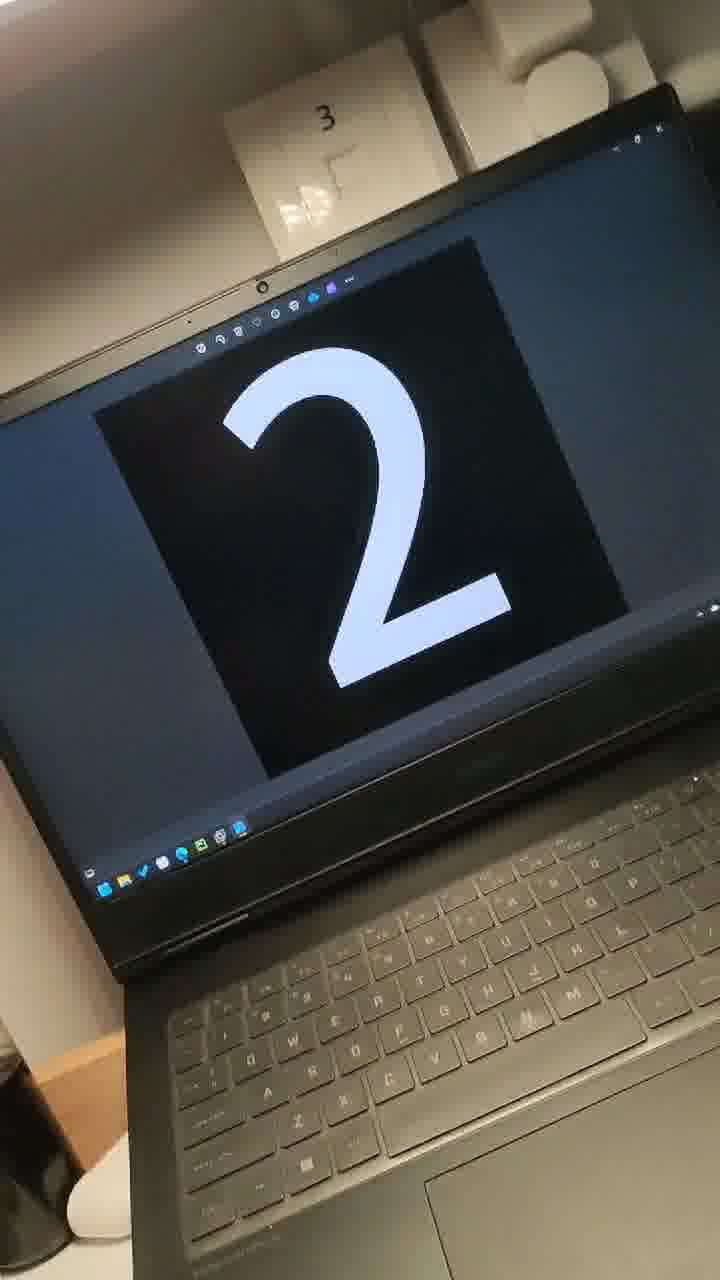two: (220, 325, 536, 709)
